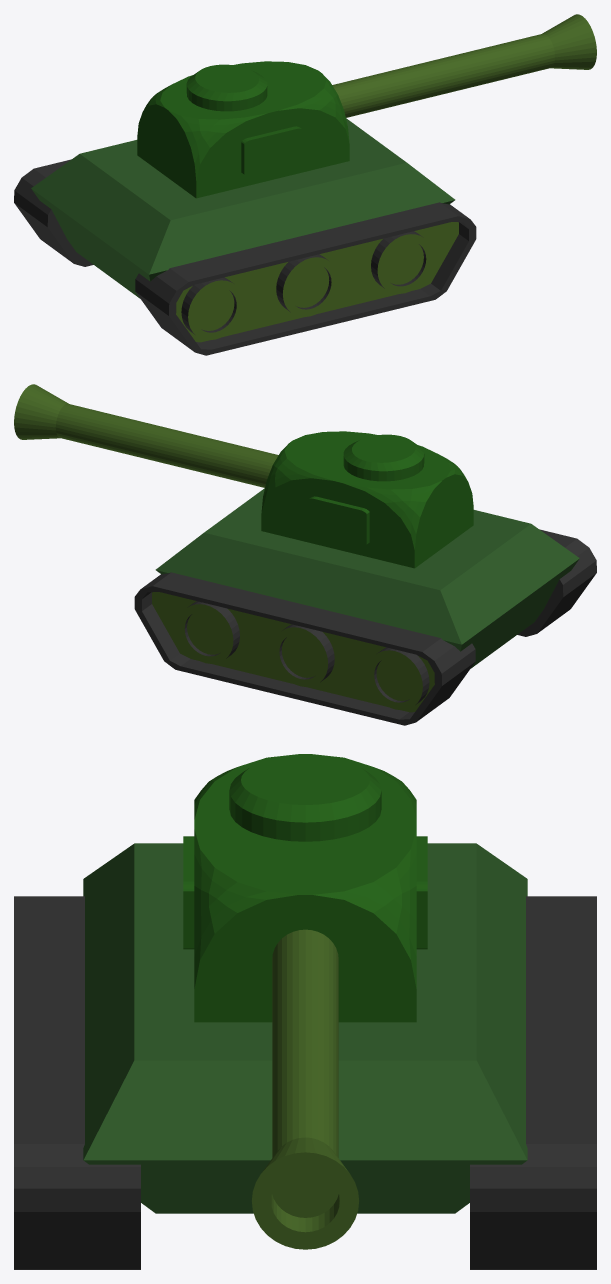
File: Tank (1).fbx
3 renders of one model, top to bottom at view 1: azimuth 30°, elevation 25°; view 2: azimuth 150°, elevation 25°; view 3: azimuth 270°, elevation 25°, orthographic. The views are drawn at different scales.
Visible parts, largest first — view 1: Tracks, Body, Turret, Cannon, Window; view 2: Tracks, Body, Turret, Cannon, Window; view 3: Body, Tracks, Turret, Cannon, Window.
Part boxes in pixels (bbox=[...]): Tracks: bbox=[14, 159, 476, 355]; Body: bbox=[31, 118, 455, 298]; Turret: bbox=[137, 61, 349, 198]; Cannon: bbox=[332, 14, 596, 117]; Window: bbox=[241, 126, 302, 175]; Tracks: bbox=[134, 529, 596, 725]; Body: bbox=[155, 488, 579, 668]; Turret: bbox=[261, 431, 473, 568]; Cannon: bbox=[14, 384, 278, 487]; Window: bbox=[308, 496, 369, 545]; Body: bbox=[83, 843, 527, 1213]; Tracks: bbox=[14, 896, 596, 1269]; Turret: bbox=[194, 754, 416, 1022]; Cannon: bbox=[252, 929, 358, 1249]; Window: bbox=[183, 836, 427, 949].
Bounding box in the file's own units: 964 × 367 × 525.
